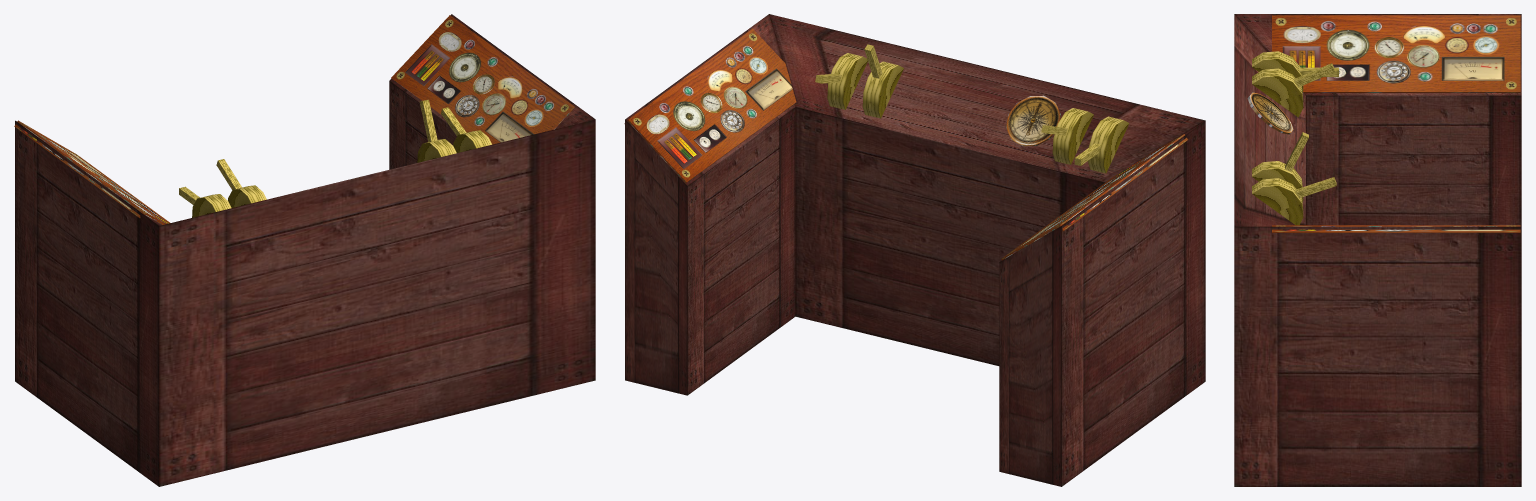
File: InstrumentPanel.FBX
3 renders of one model, left to right at view 1: azimuth 30°, elevation 25°; view 2: azimuth 150°, elevation 25°; view 3: azimuth 270°, elevation 25°, orthographic.
Parts seen in each view (by area): view 1: C-Ext001; view 2: C-Ext001; view 3: C-Ext001.
Boxes of the visible parts, x1,y1,x2,y2 form: C-Ext001: (14,14,595,486); C-Ext001: (624,14,1205,486); C-Ext001: (1234,14,1521,486).
Bounding box in the file's own units: 69.36 × 43.45 × 39.37.
